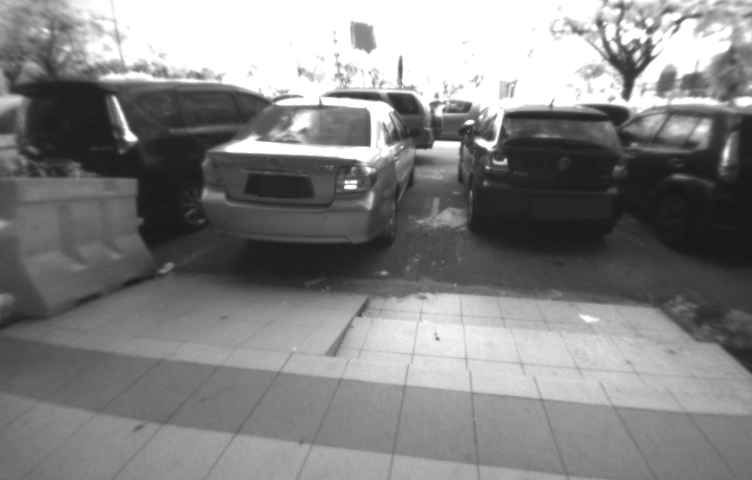mixed_gradient: (327, 287, 746, 392), (292, 285, 390, 371)
